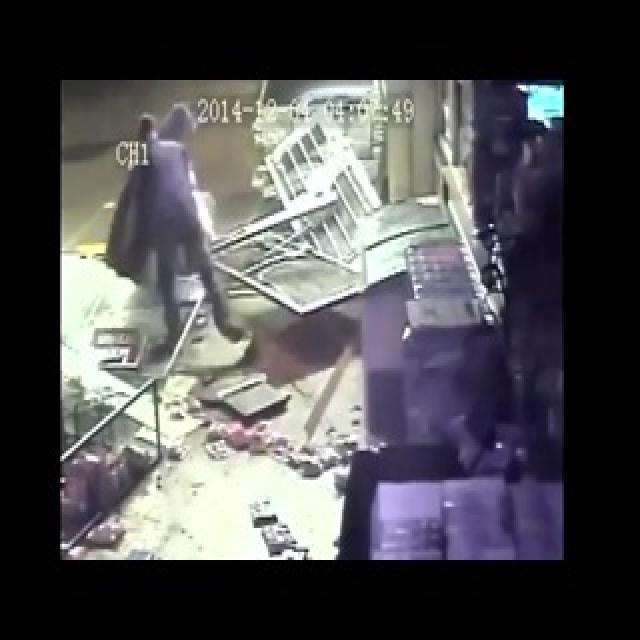thief: (127, 108, 239, 348)
